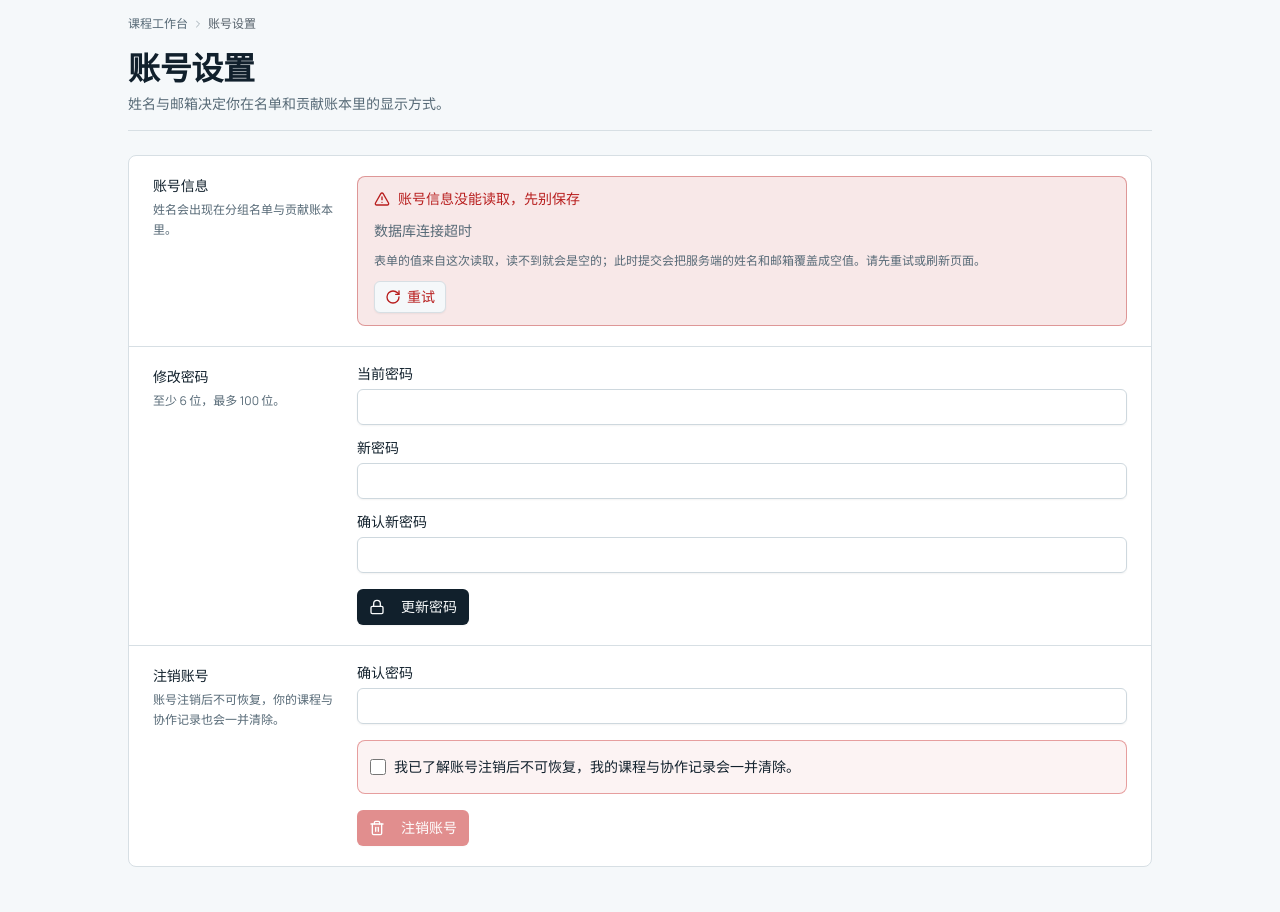
账号设置：读不到 /api/user 时不允许用空值覆盖账号信息 › 读到数据后才渲染带真实值的表单，重试成功可从错误态恢复
Check: the text "账号信息没能读取，先别保存" is shown, box left=374, top=189, right=580, bottom=209
What coordinates should you click on to do the following:
click the button "重试"
I would click on:
 (410, 297)
Its box is left=374, top=281, right=446, bottom=313.
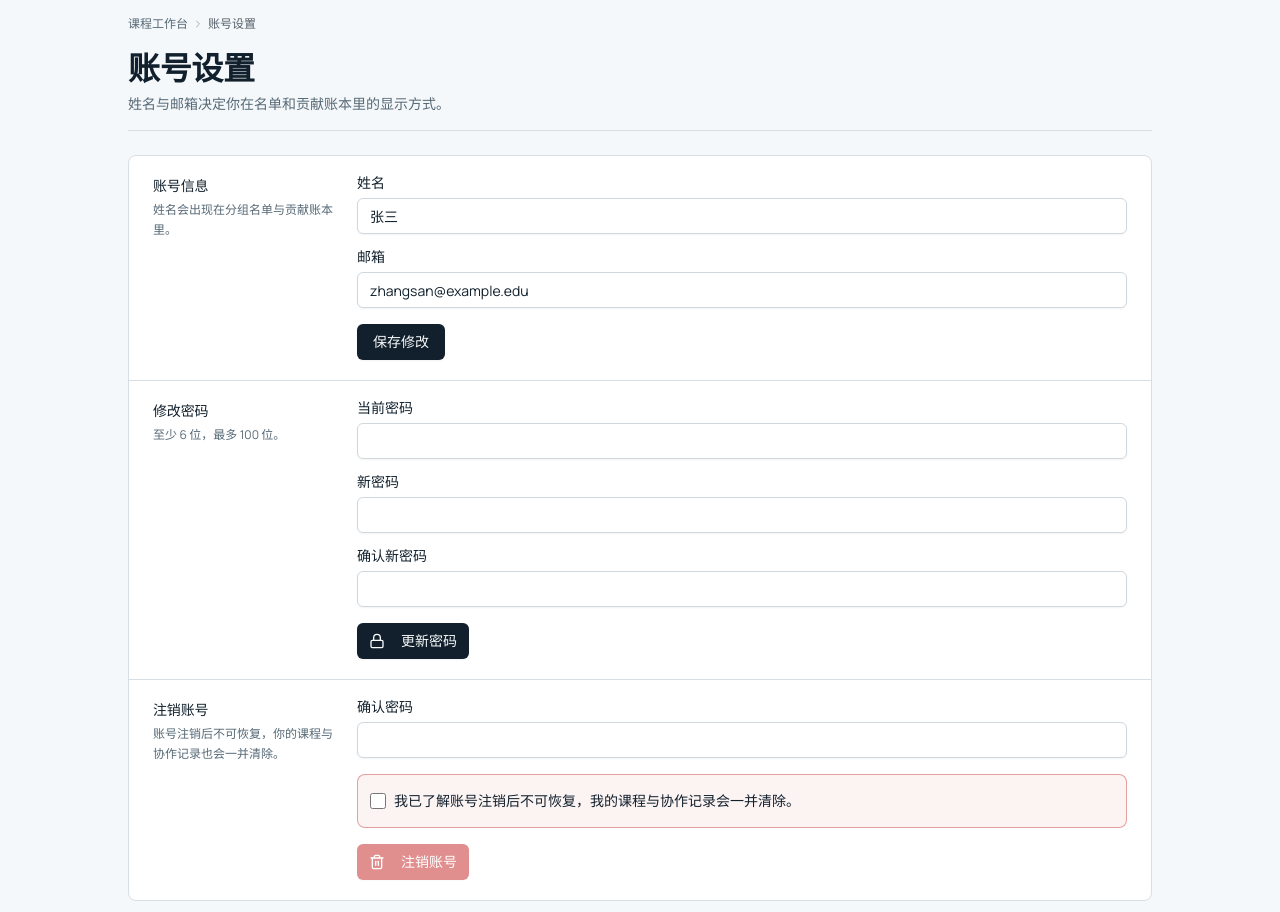
Check: the field labelled "姓名" holds "张三", box left=357, top=198, right=1127, bottom=234
Check: the field labelled "邮箱" holds "zhangsan@example.edu", box left=357, top=272, right=1127, bottom=308
Check: the button "保存修改" is shown, box left=357, top=324, right=445, bottom=360
